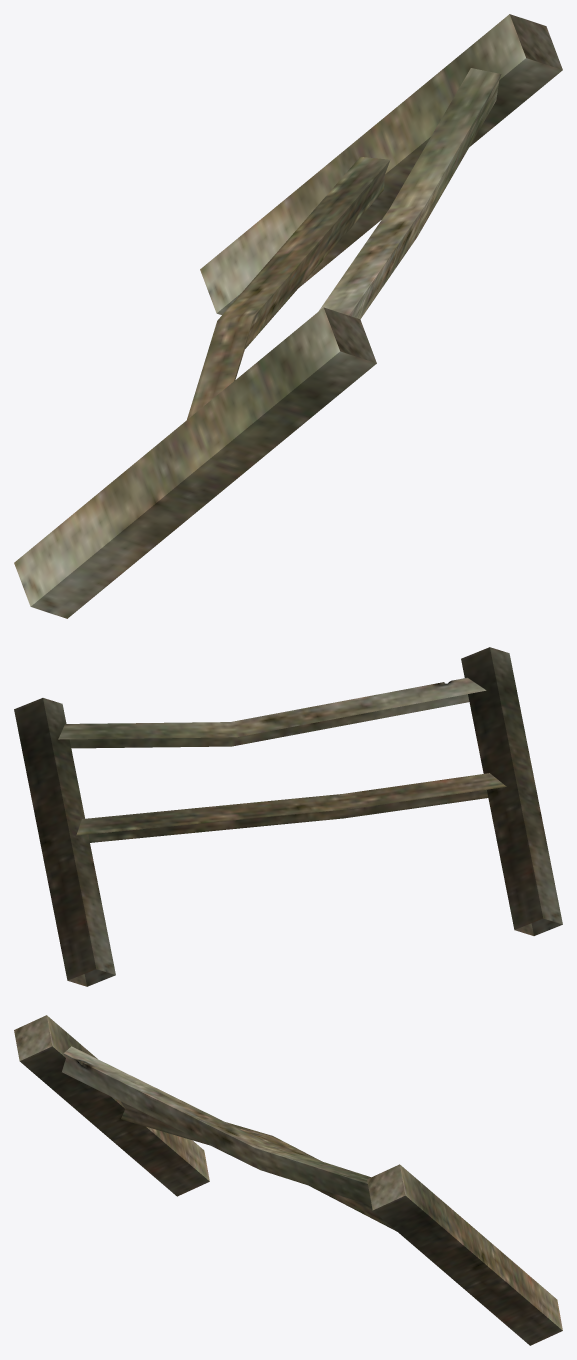
File: Fence01.obj
3 renders of one model, top to bottom at view 1: azimuth 30°, elevation 25°; view 2: azimuth 150°, elevation 25°; view 3: azimuth 270°, elevation 25°, orthographic. The views are drawn at different scales.
Parts seen in each view (by area): view 1: Mesh_0; view 2: Mesh_0; view 3: Mesh_0.
Part boxes in pixels (<box>): Mesh_0: <box>14,14,562,618</box>; Mesh_0: <box>14,647,562,986</box>; Mesh_0: <box>14,1015,562,1345</box>.
Bounding box in the file's own units: 1.76 × 0.8386 × 1.76.
1 material, 1 textured.
